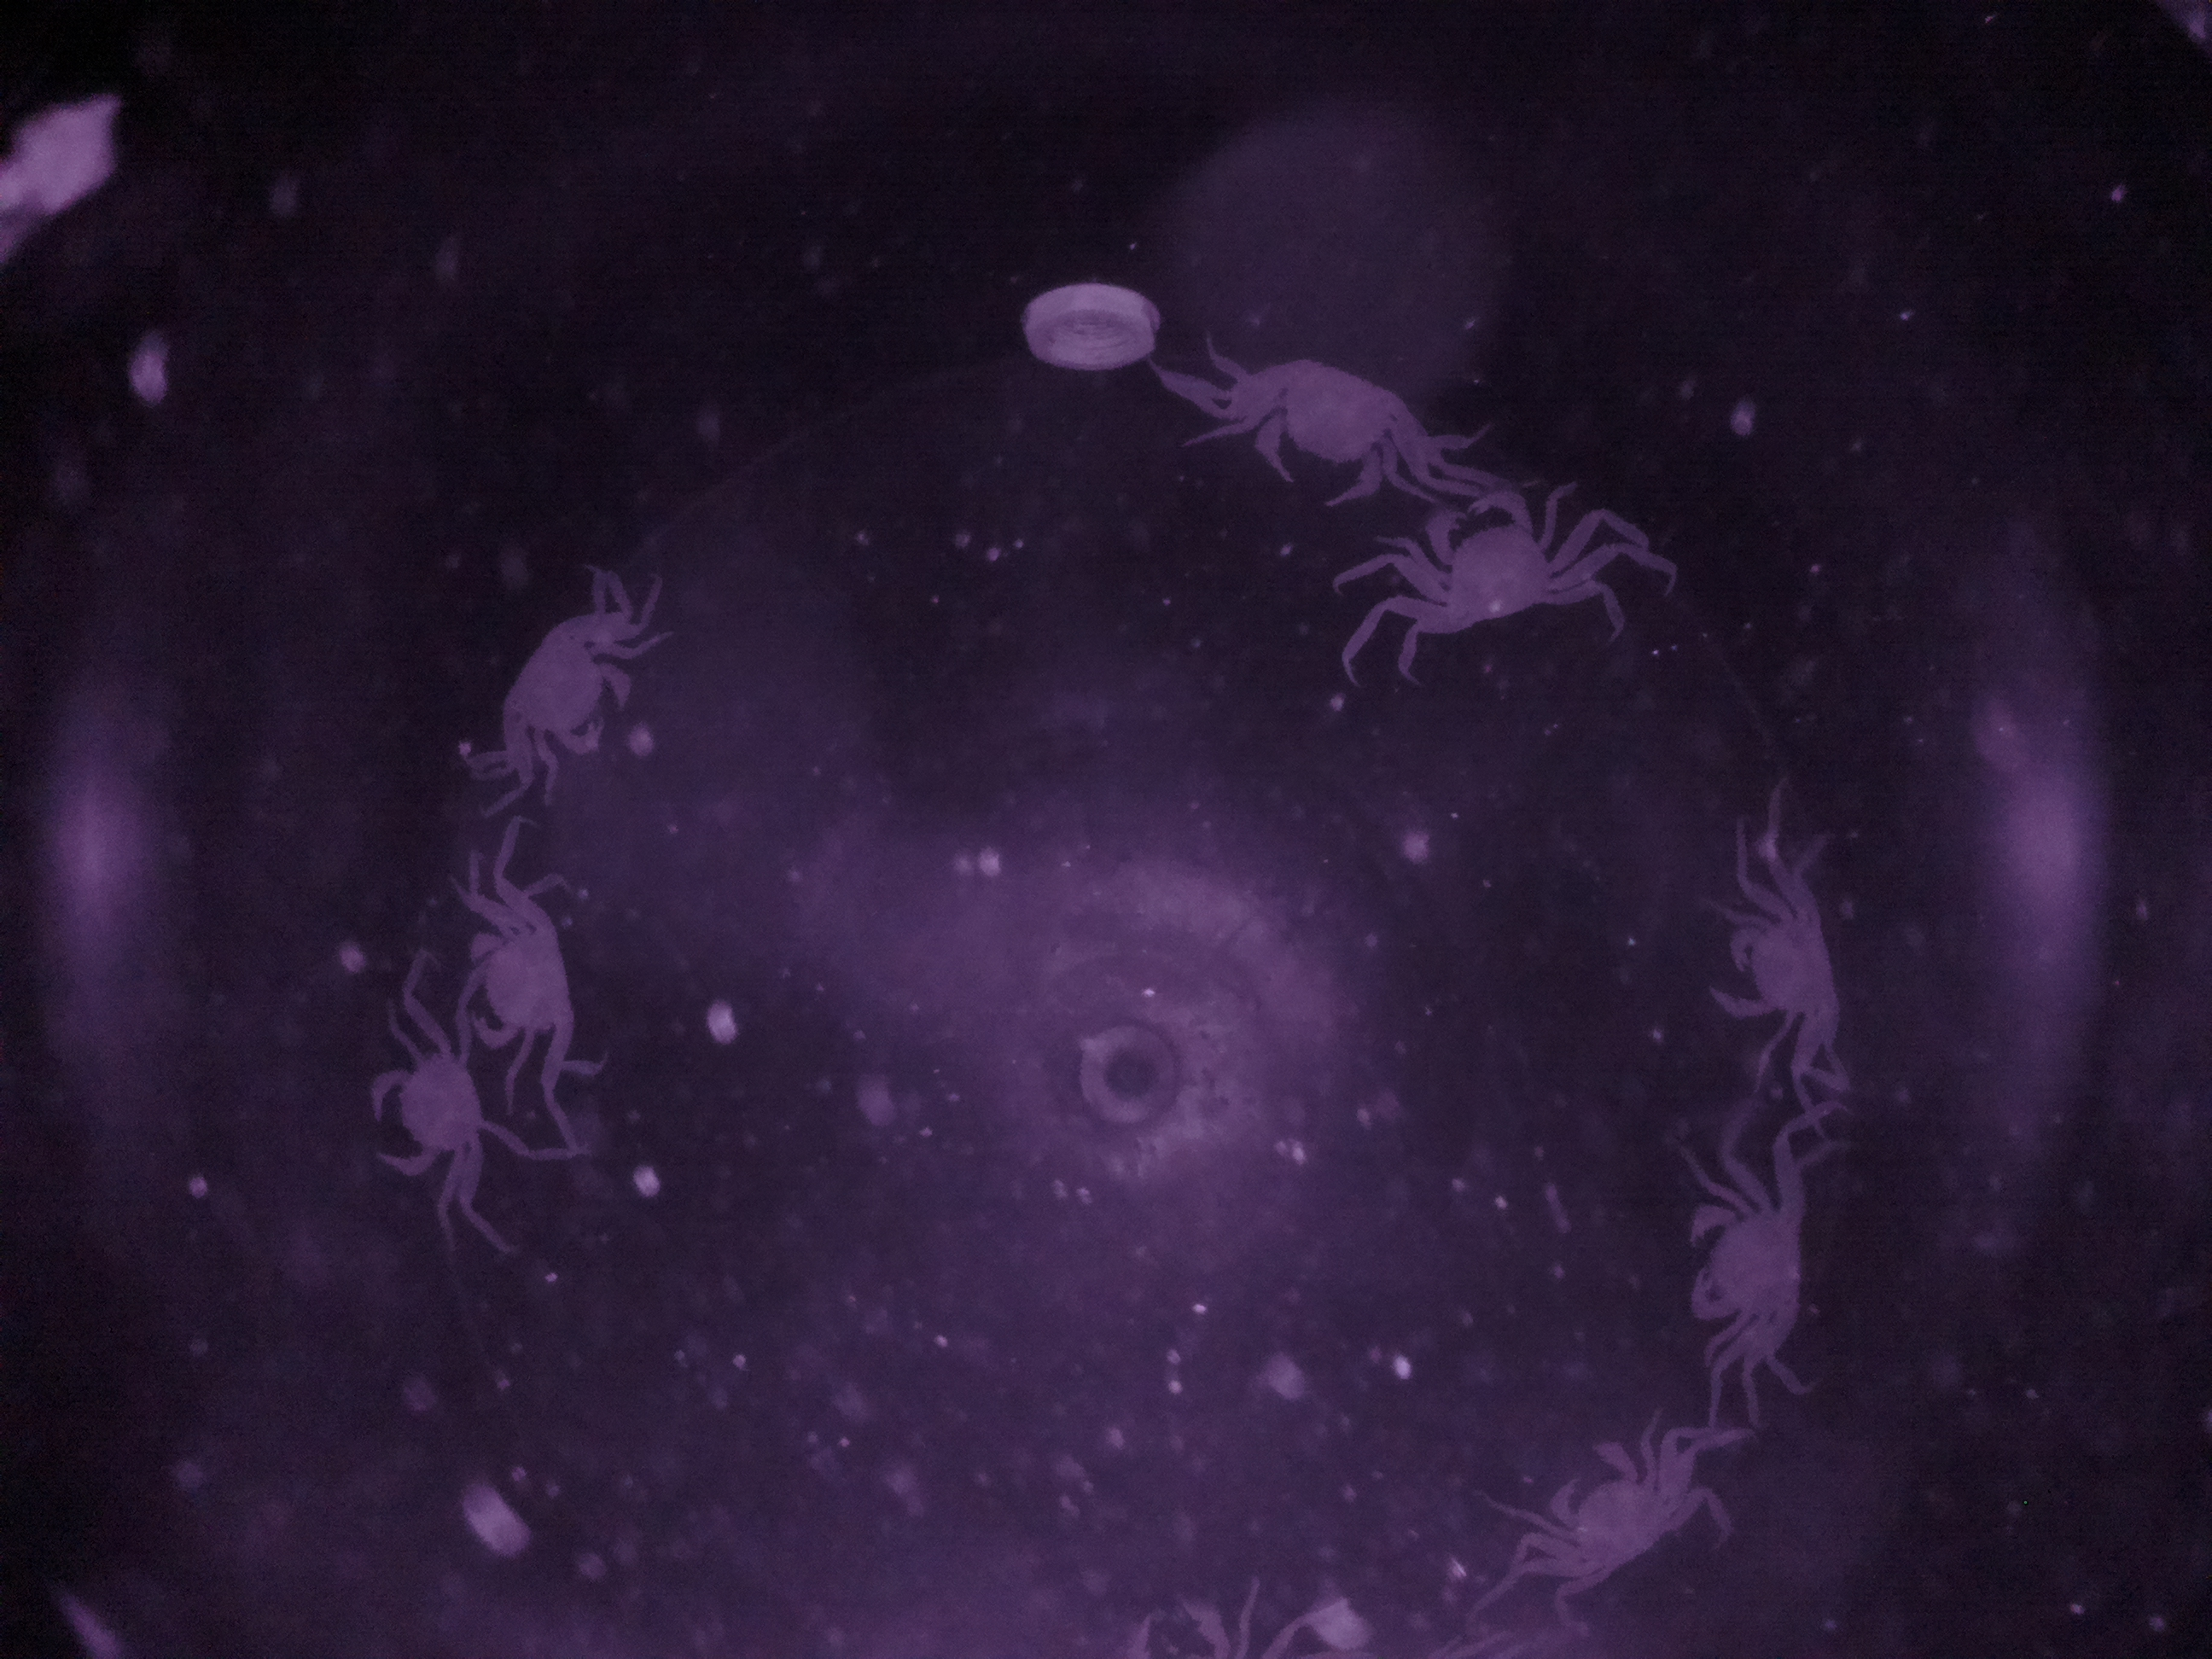Crab: (1385, 476, 1602, 655), (434, 864, 594, 1080), (1662, 1173, 1838, 1368), (1212, 350, 1416, 514), (1693, 884, 1865, 1056), (1521, 1419, 1686, 1591), (488, 592, 641, 777), (350, 1032, 496, 1192)
